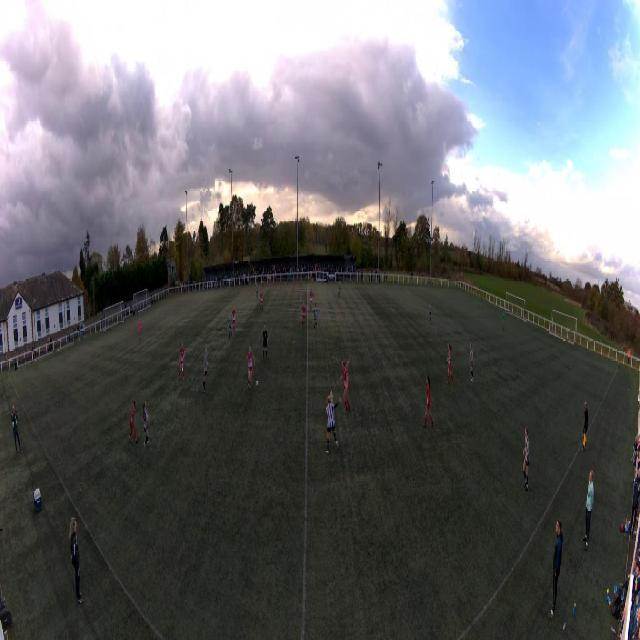ball: (256, 380, 259, 387)
player: (324, 393, 341, 454), (338, 362, 353, 408), (424, 378, 434, 426), (523, 429, 530, 489), (247, 347, 256, 389), (129, 401, 138, 442), (143, 401, 150, 448), (312, 304, 321, 334), (447, 344, 453, 386), (203, 347, 208, 395), (179, 343, 185, 381), (262, 323, 268, 360), (469, 344, 473, 384), (301, 303, 307, 328), (229, 311, 233, 339), (232, 307, 236, 335), (309, 290, 314, 312), (337, 280, 341, 297), (429, 301, 432, 323), (138, 318, 141, 339), (260, 292, 263, 310), (502, 312, 505, 330), (256, 283, 258, 299), (262, 279, 263, 287)
